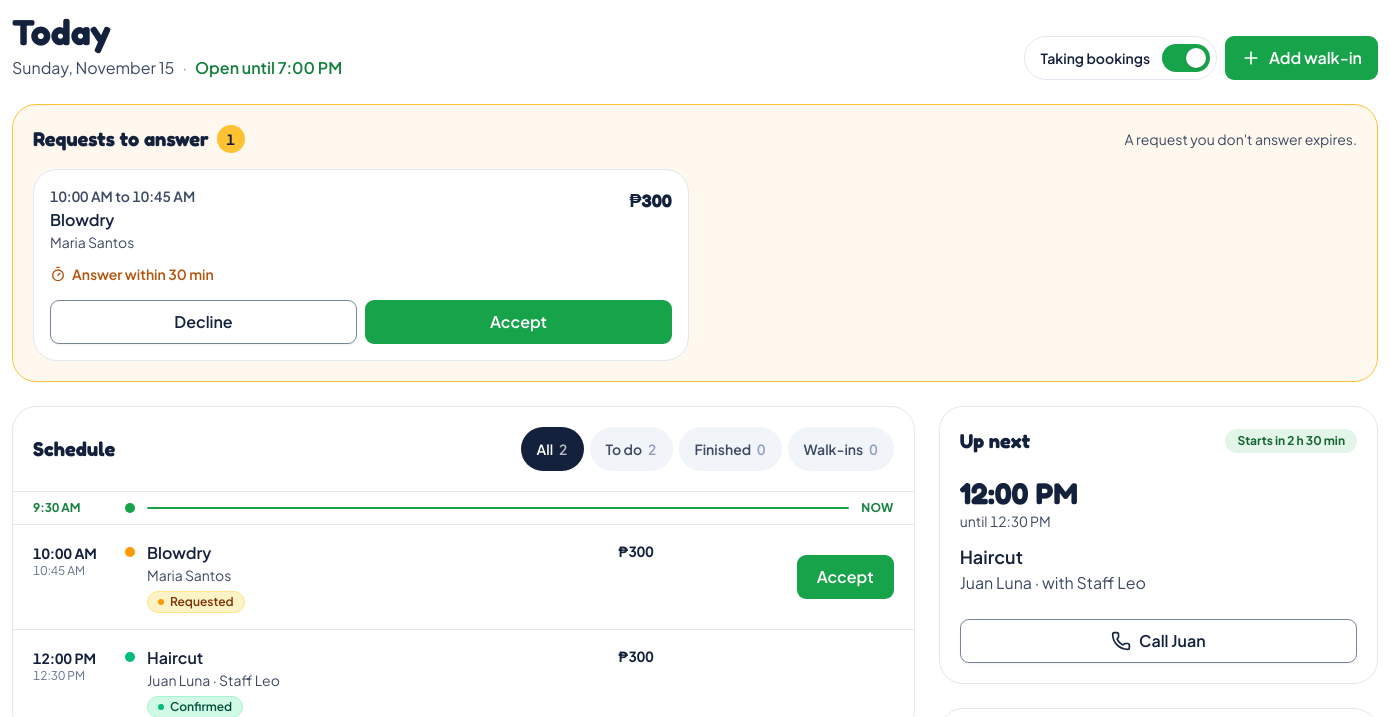
Test case: TodayView › shows the server's message when an action fails
Click the button "Accept" below "Answer within 30 min": (518, 322) [365,300,672,344]
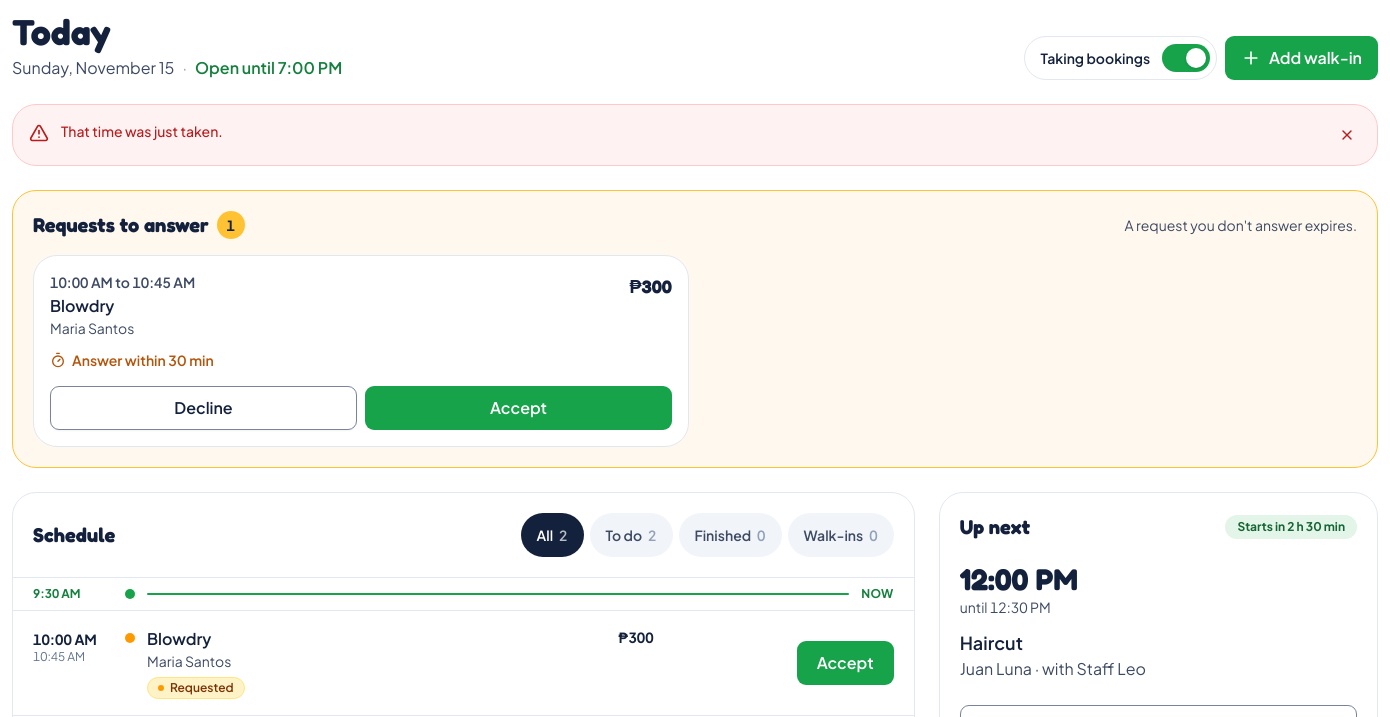
Expected: the message reads "That time was just taken.", [61,122,223,140]
